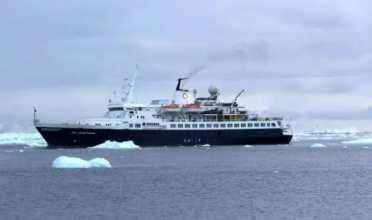youlun: (21, 68, 314, 151)
